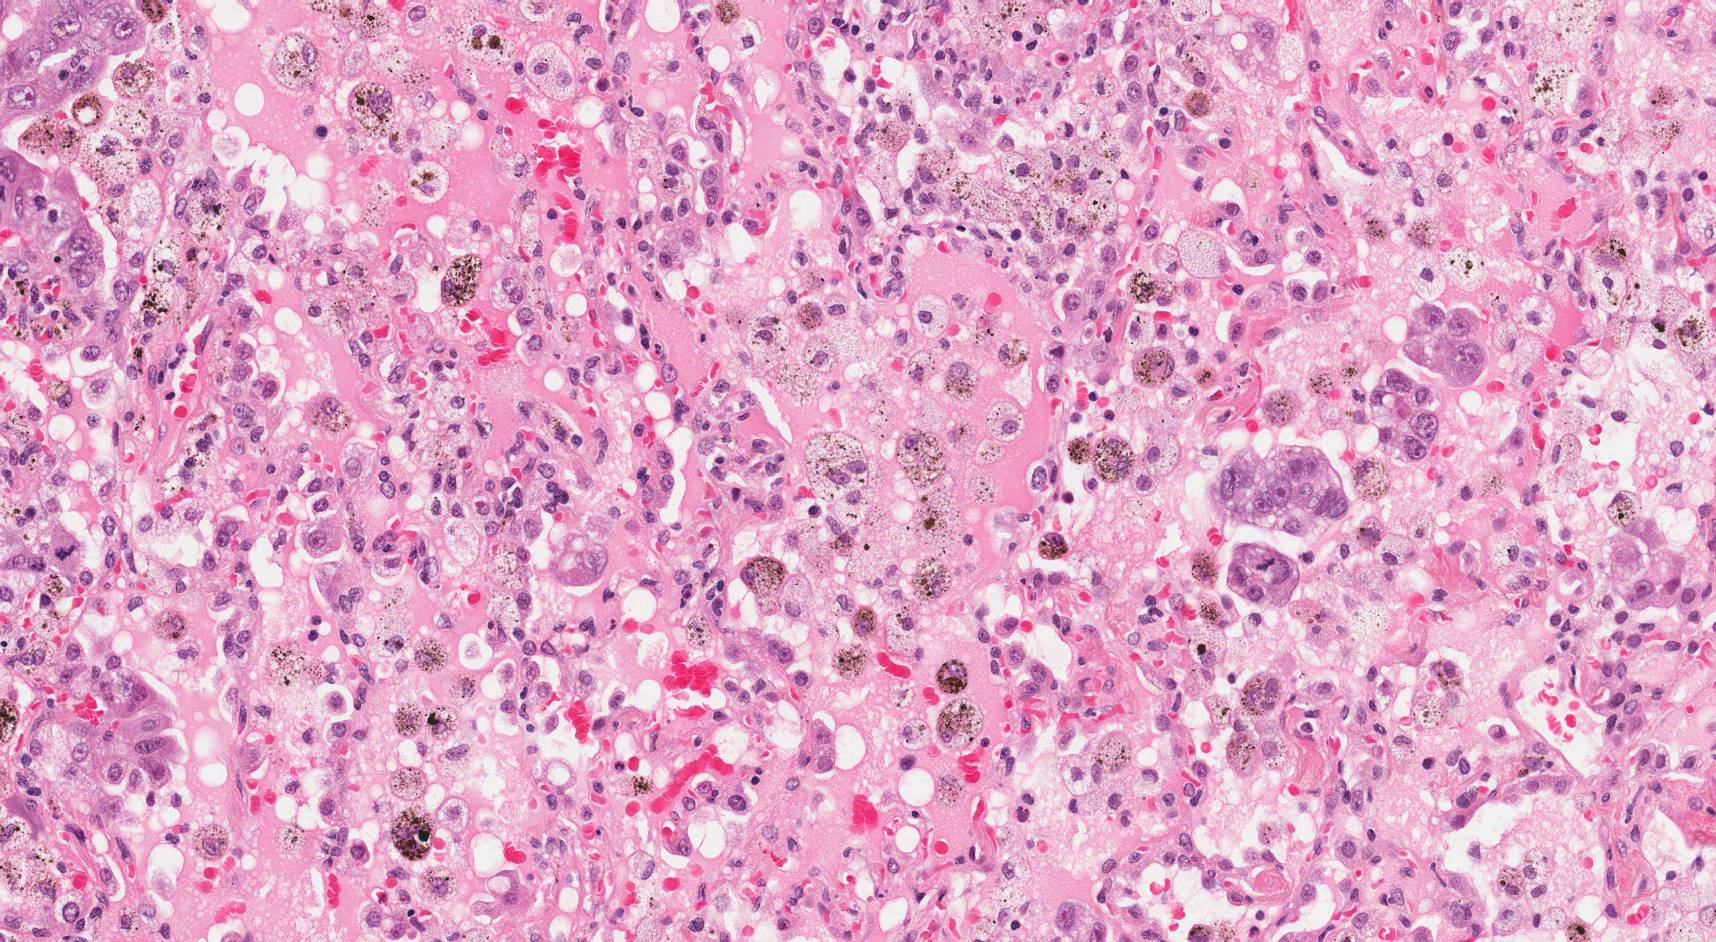stas: (1211, 444, 1347, 537), (1402, 300, 1490, 385), (1368, 368, 1440, 460), (1225, 541, 1303, 606)
